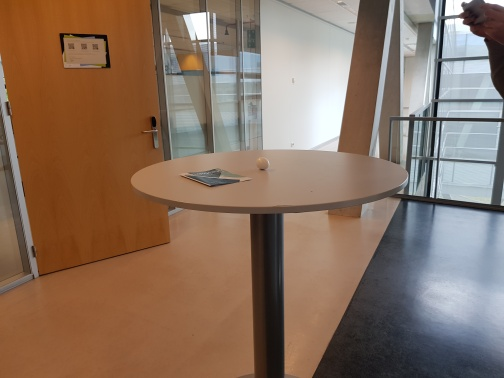egg: (254, 156, 272, 171)
